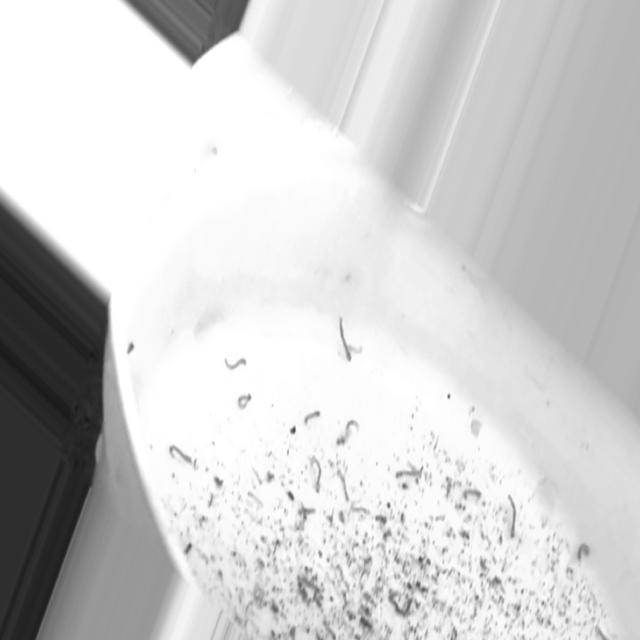larvas: (337, 309, 354, 366), (337, 420, 358, 448), (224, 351, 247, 371), (337, 470, 350, 504), (170, 445, 192, 465), (479, 529, 494, 557), (248, 487, 265, 511), (395, 469, 425, 482), (312, 453, 321, 492), (252, 461, 263, 489), (463, 484, 481, 501), (510, 492, 516, 540), (238, 390, 252, 409), (306, 408, 320, 427), (577, 539, 589, 560), (352, 506, 369, 518), (300, 505, 314, 514), (352, 346, 362, 354)
